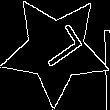L_SW: (27, 23, 84, 77)
